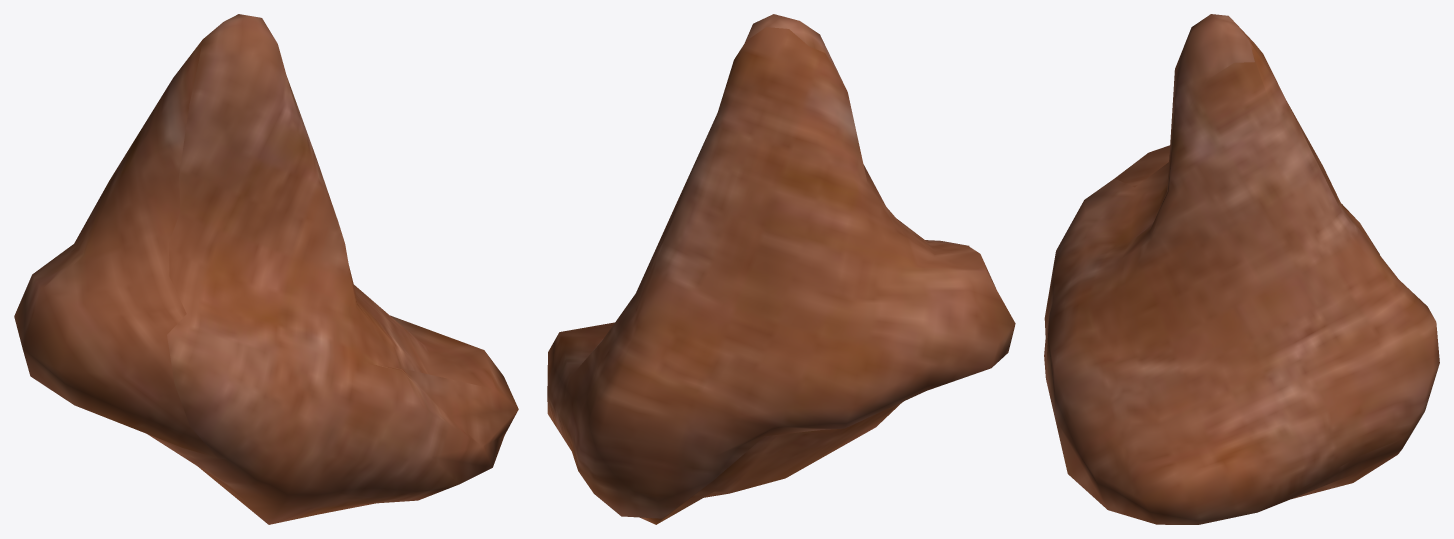
File: Canyon_Rock_Formations_3.glb
3 views of the same model, side by side, from view 1: azimuth 30°, elevation 25°; view 2: azimuth 150°, elevation 25°; view 3: azimuth 270°, elevation 25° (orthographic). The views are drawn at different scales.
Parts seen in each view (by area): view 1: Canyon_Rock_Formations_3_0; view 2: Canyon_Rock_Formations_3_0; view 3: Canyon_Rock_Formations_3_0.
Part boxes in pixels (box(x1,y1,x2,y2)): Canyon_Rock_Formations_3_0: box(14, 14, 518, 524); Canyon_Rock_Formations_3_0: box(547, 14, 1015, 524); Canyon_Rock_Formations_3_0: box(1044, 14, 1439, 524).
Size of the model in its own units: 13.47 by 13.18 by 10.84.
1 material, 1 textured.
